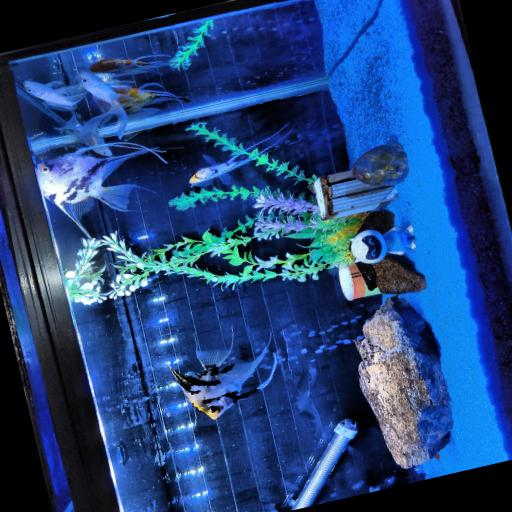Fish: (37, 142, 164, 238), (170, 342, 277, 419), (189, 127, 288, 187), (79, 72, 127, 138), (55, 112, 112, 156), (112, 81, 189, 113), (24, 81, 85, 110), (90, 54, 169, 75)
